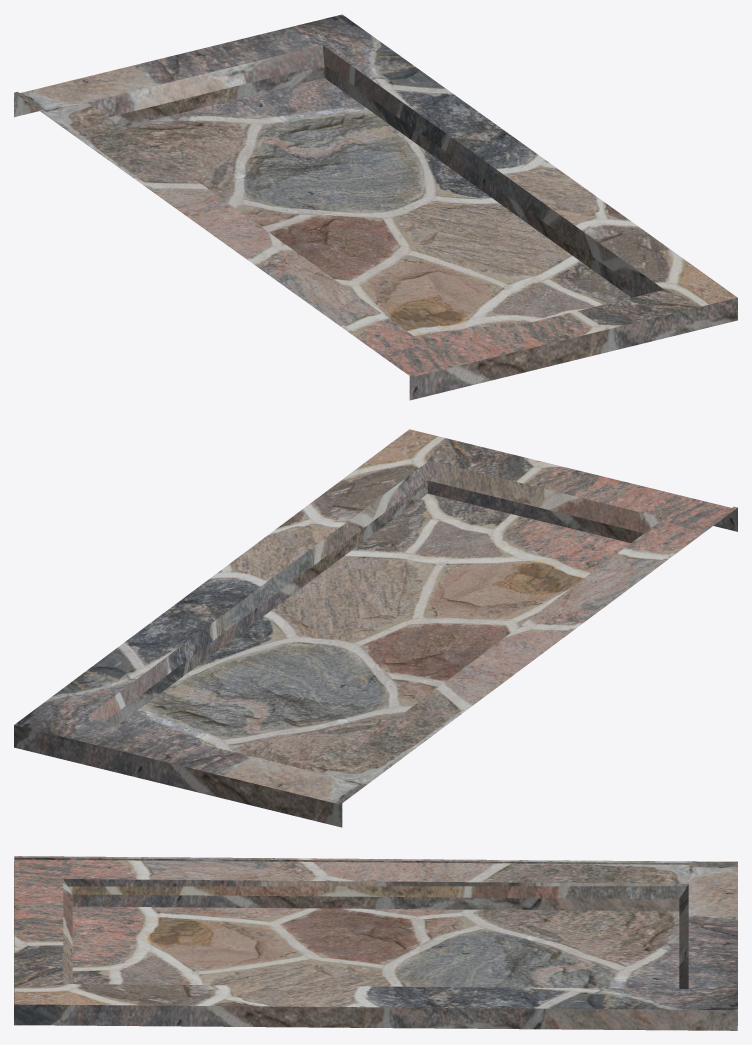
The model's file is original-133.obj.
The picture shows the model from 3 angles, top to bottom: view 1: azimuth 30°, elevation 25°; view 2: azimuth 150°, elevation 25°; view 3: azimuth 270°, elevation 25°; orthographic projection. The views are drawn at different scales.
Parts seen in each view (by area): view 1: mesh221/mesh221-geometry#mesh221-geometry; view 2: mesh221/mesh221-geometry#mesh221-geometry; view 3: mesh221/mesh221-geometry#mesh221-geometry.
Boxes of the visible parts, x1,y1,x2,y2 form: mesh221/mesh221-geometry#mesh221-geometry: (14,14,737,400); mesh221/mesh221-geometry#mesh221-geometry: (14,429,737,827); mesh221/mesh221-geometry#mesh221-geometry: (14,856,737,1030).
Bounding box in the file's own units: 0.3753 × 0.0392 × 0.7831.
